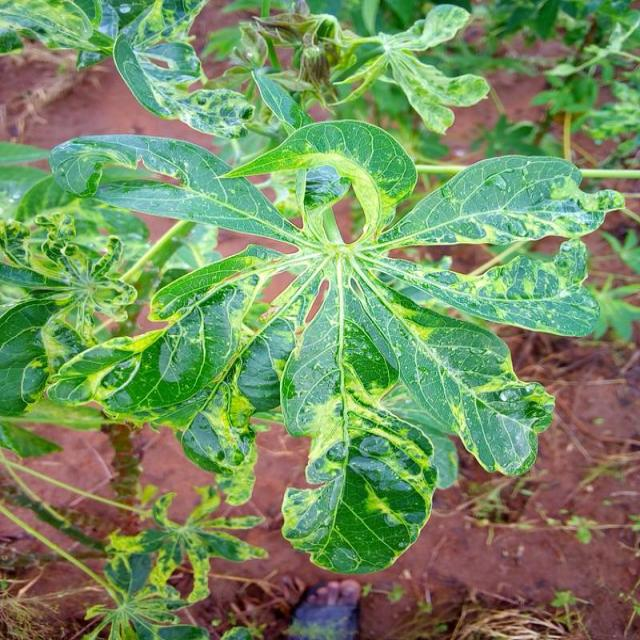cassava leaf: (34, 72, 625, 575)
